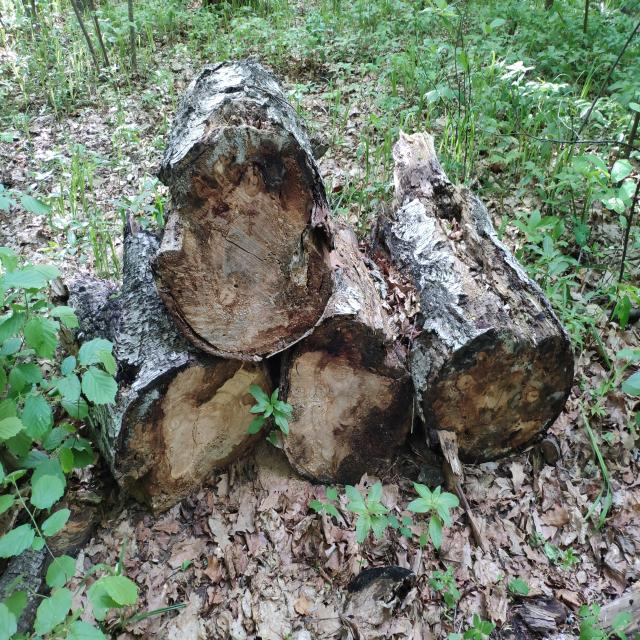restos de madeira: (66, 222, 270, 511), (383, 153, 569, 455), (156, 57, 333, 351), (271, 215, 414, 473), (0, 497, 104, 636), (514, 592, 574, 632)
terra: (421, 348, 576, 470)
